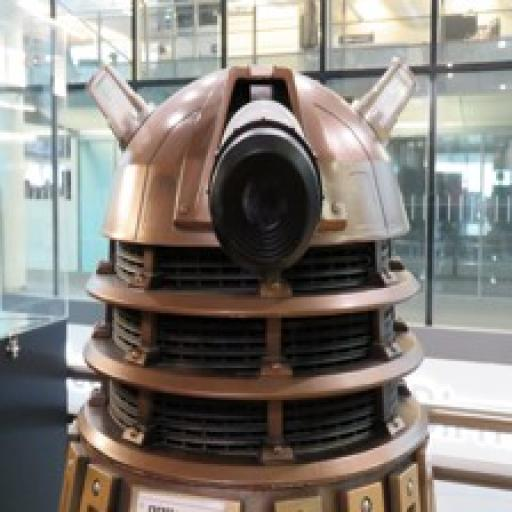dalek: (41, 61, 449, 512)
